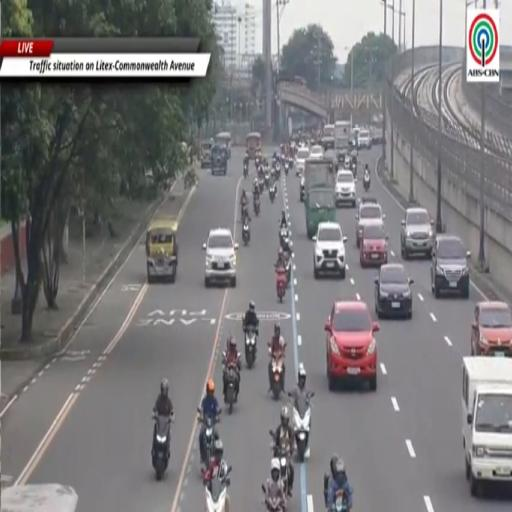car: (325, 301, 379, 391), (431, 234, 470, 298), (471, 301, 511, 357), (203, 228, 238, 287), (375, 264, 413, 318), (313, 222, 347, 279), (401, 207, 434, 260), (356, 199, 385, 248), (360, 224, 387, 267), (335, 170, 356, 206), (211, 144, 227, 175), (295, 147, 309, 175), (357, 130, 372, 149), (309, 144, 324, 158), (300, 175, 305, 201), (344, 154, 352, 170)
jeepney: (146, 218, 178, 283), (2, 485, 77, 511), (246, 133, 261, 159), (216, 133, 231, 158), (201, 140, 213, 168)
motorcycle: (197, 408, 221, 467), (294, 393, 314, 462), (270, 430, 290, 495), (152, 415, 171, 481), (206, 467, 231, 511), (224, 363, 239, 414), (270, 352, 284, 399), (262, 485, 285, 511), (245, 328, 257, 369), (328, 490, 349, 511), (276, 267, 287, 302), (242, 216, 250, 246), (279, 228, 288, 250), (285, 252, 291, 285), (253, 196, 260, 217), (269, 183, 276, 202), (241, 203, 248, 221), (363, 175, 370, 191), (275, 163, 281, 179), (259, 176, 264, 194), (264, 170, 269, 187), (258, 165, 264, 178), (351, 164, 356, 178), (244, 162, 248, 179), (255, 156, 260, 169), (285, 160, 289, 175), (288, 158, 293, 169)
truck: (462, 357, 511, 495), (304, 158, 335, 238), (334, 121, 352, 161)
